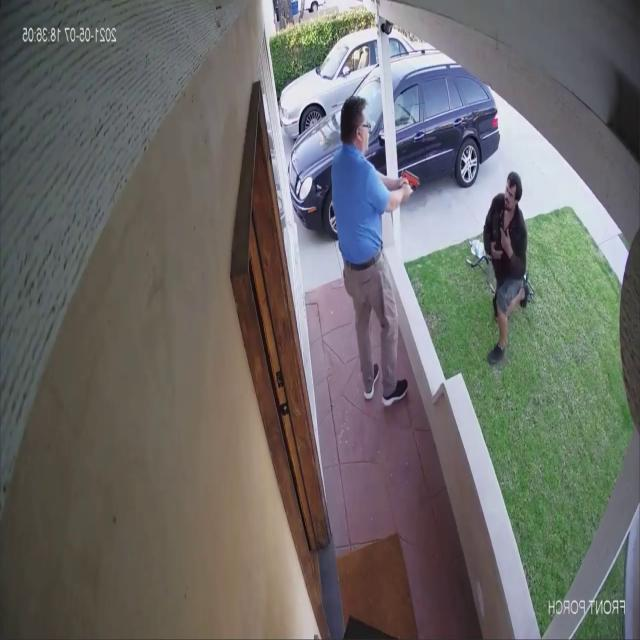Gun: (402, 168, 420, 197)
